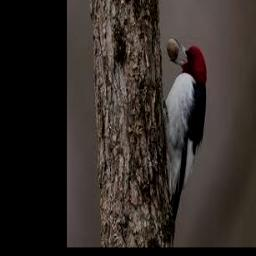Woodpecker: (163, 37, 207, 243)
